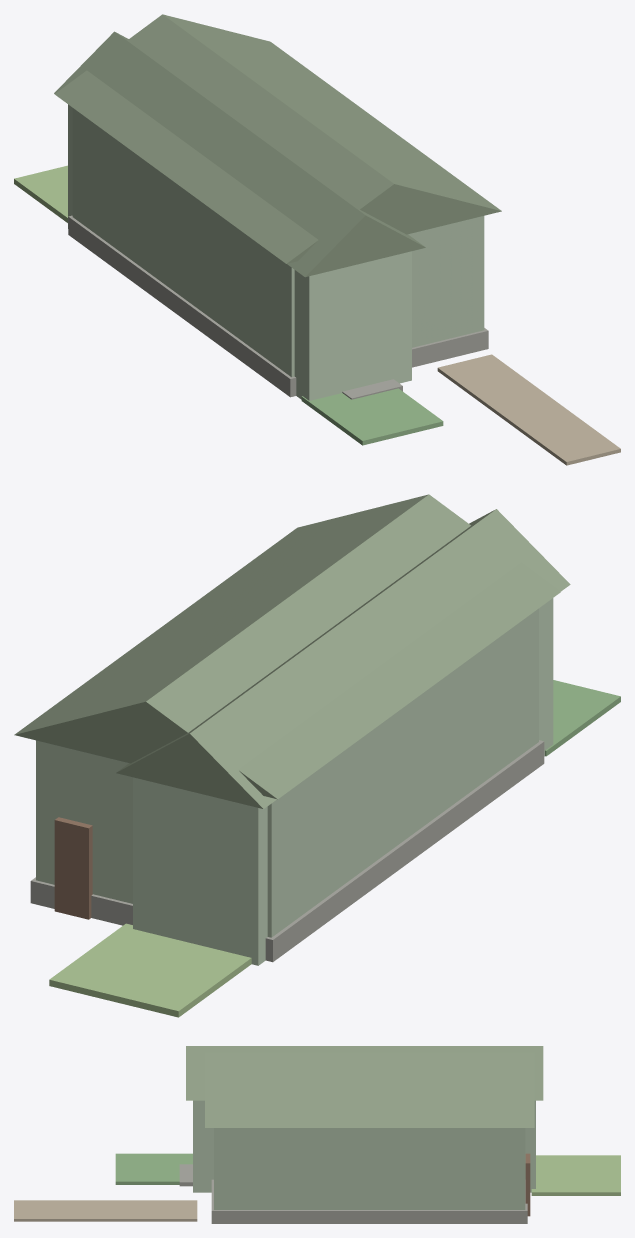
3 renders of one model, top to bottom at view 1: azimuth 30°, elevation 25°; view 2: azimuth 150°, elevation 25°; view 3: azimuth 270°, elevation 25°, orthographic. The views are drawn at different scales.
Visible parts, largest first — view 1: MainRoof, MainBody, CrossWingRoof, CrossWing, Driveway, StonePlinth, FrontGreenVerge, RearYardPatch; view 2: MainRoof, MainBody, CrossWingRoof, CrossWing, RearYardPatch, StonePlinth, ServiceDoor, FrontGreenVerge; view 3: MainBody, MainRoof, StonePlinth, Driveway, CrossWingRoof, RearYardPatch, CrossWing, FrontGreenVerge, ServiceDoor, PublicStep.
Part boxes in pixels (<box>): MainRoof: <box>54,14,501,263</box>; MainBody: <box>72,108,484,377</box>; CrossWingRoof: <box>54,31,425,277</box>; CrossWing: <box>68,104,411,400</box>; Driveway: <box>437,354,620,465</box>; StonePlinth: <box>68,215,488,397</box>; FrontGreenVerge: <box>301,388,443,445</box>; RearYardPatch: <box>14,165,67,222</box>; MainRoof: <box>14,494,560,799</box>; MainBody: <box>36,608,538,937</box>; CrossWingRoof: <box>116,509,570,808</box>; CrossWing: <box>133,598,553,965</box>; RearYardPatch: <box>49,923,251,1017</box>; StonePlinth: <box>30,740,544,962</box>; ServiceDoor: <box>54,817,92,919</box>; FrontGreenVerge: <box>545,680,620,756</box>; MainBody: <box>214,1128,525,1209</box>; MainRoof: <box>205,1052,534,1127</box>; StonePlinth: <box>211,1179,527,1223</box>; Driveway: <box>14,1200,197,1221</box>; CrossWingRoof: <box>186,1046,543,1100</box>; RearYardPatch: <box>531,1155,620,1195</box>; CrossWing: <box>193,1100,535,1192</box>; FrontGreenVerge: <box>115,1153,192,1184</box>; ServiceDoor: <box>525,1153,530,1216</box>; PublicStep: <box>179,1164,192,1186</box>.
Bounding box in the file's own units: 6.95 × 5.92 × 23.79.
